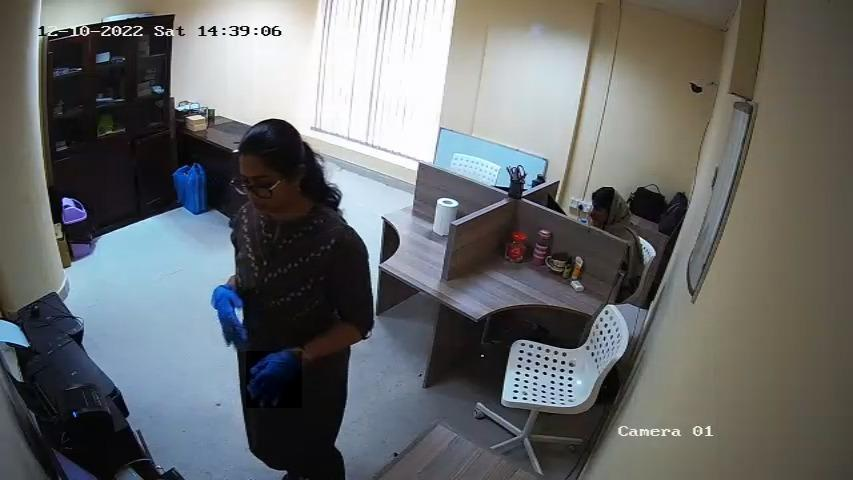apron: (246, 352, 302, 408), (211, 286, 249, 347)
no_apron: (589, 210, 606, 234)
no_gloves: (243, 118, 342, 213), (591, 188, 633, 234)
no_hairnet: (239, 179, 295, 223), (589, 206, 610, 227)
